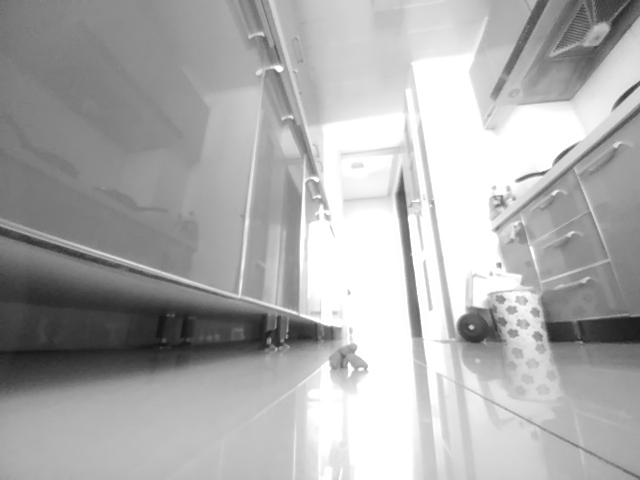pet feces: (328, 342, 368, 370)
